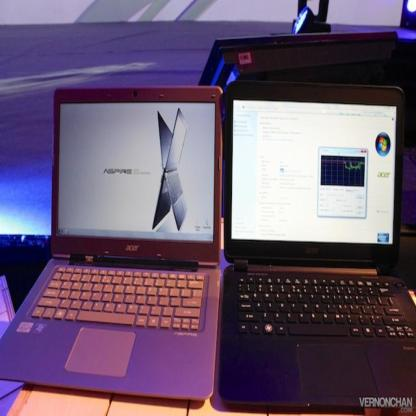board: (0, 81, 224, 400), (220, 80, 416, 410)
